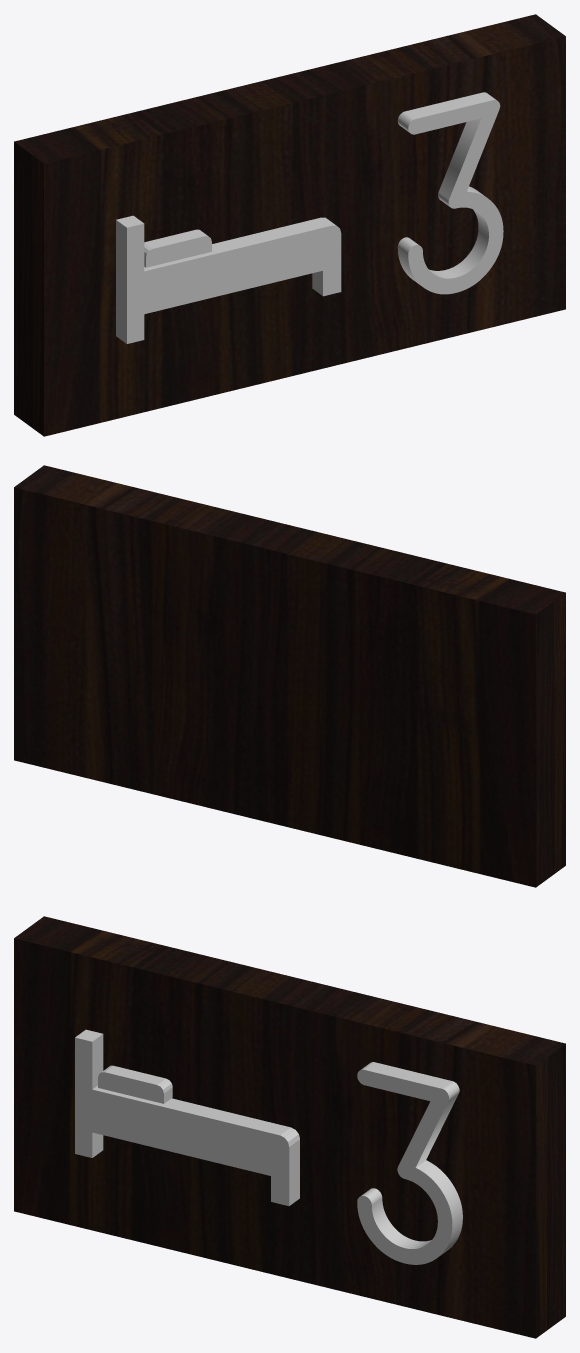
Rendered from Bed 3.fbx.
3 views of the same model, one above another, from view 1: azimuth 30°, elevation 25°; view 2: azimuth 150°, elevation 25°; view 3: azimuth 330°, elevation 25° (orthographic).
Parts seen in each view (by area): view 1: Base, Cube, Text; view 2: Base; view 3: Base, Cube, Text.
Boxes of the visible parts, bbox=[...] form: Base: bbox=[14, 14, 565, 436]; Cube: bbox=[116, 215, 341, 343]; Text: bbox=[397, 92, 503, 294]; Base: bbox=[14, 465, 565, 887]; Base: bbox=[14, 916, 565, 1338]; Cube: bbox=[75, 1029, 299, 1205]; Text: bbox=[357, 1062, 462, 1264].
Bounding box in the file's own units: 200 × 100 × 27.26.
